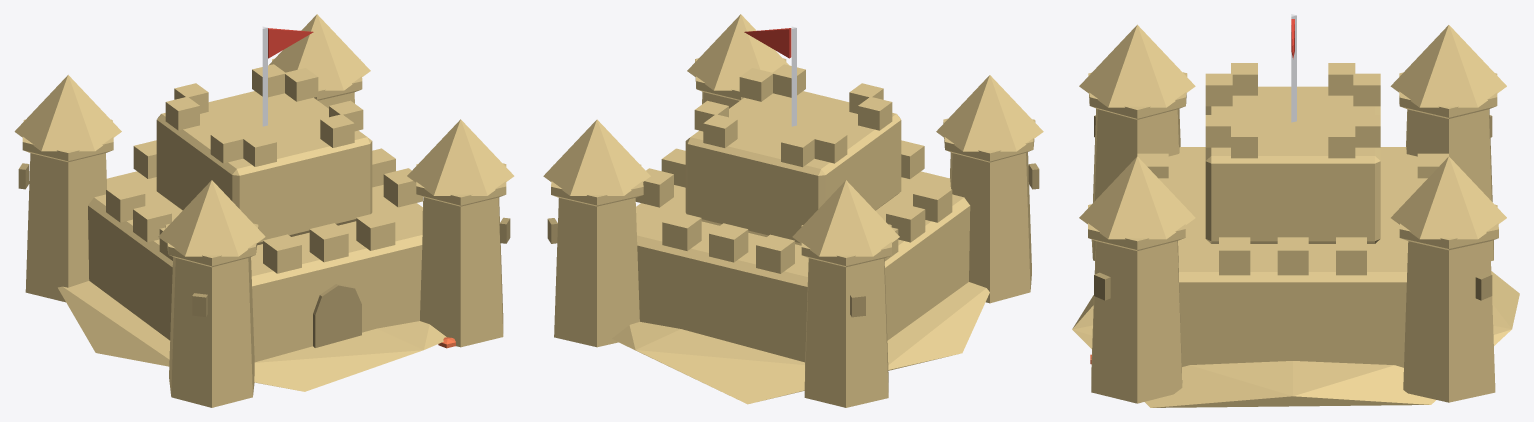
Rendered from sandcastle.glb.
3 renders of one model, left to right at view 1: azimuth 30°, elevation 25°; view 2: azimuth 150°, elevation 25°; view 3: azimuth 270°, elevation 25°, orthographic. The views are drawn at different scales.
Parts seen in each view (by area): view 1: sandcastle-m; view 2: sandcastle-m; view 3: sandcastle-m.
Part boxes in pixels (bbox=[...]): sandcastle-m: bbox=[14, 14, 514, 407]; sandcastle-m: bbox=[543, 14, 1043, 407]; sandcastle-m: bbox=[1072, 14, 1519, 407].
Bounding box in the file's own units: 2.27 × 1.85 × 2.3.
